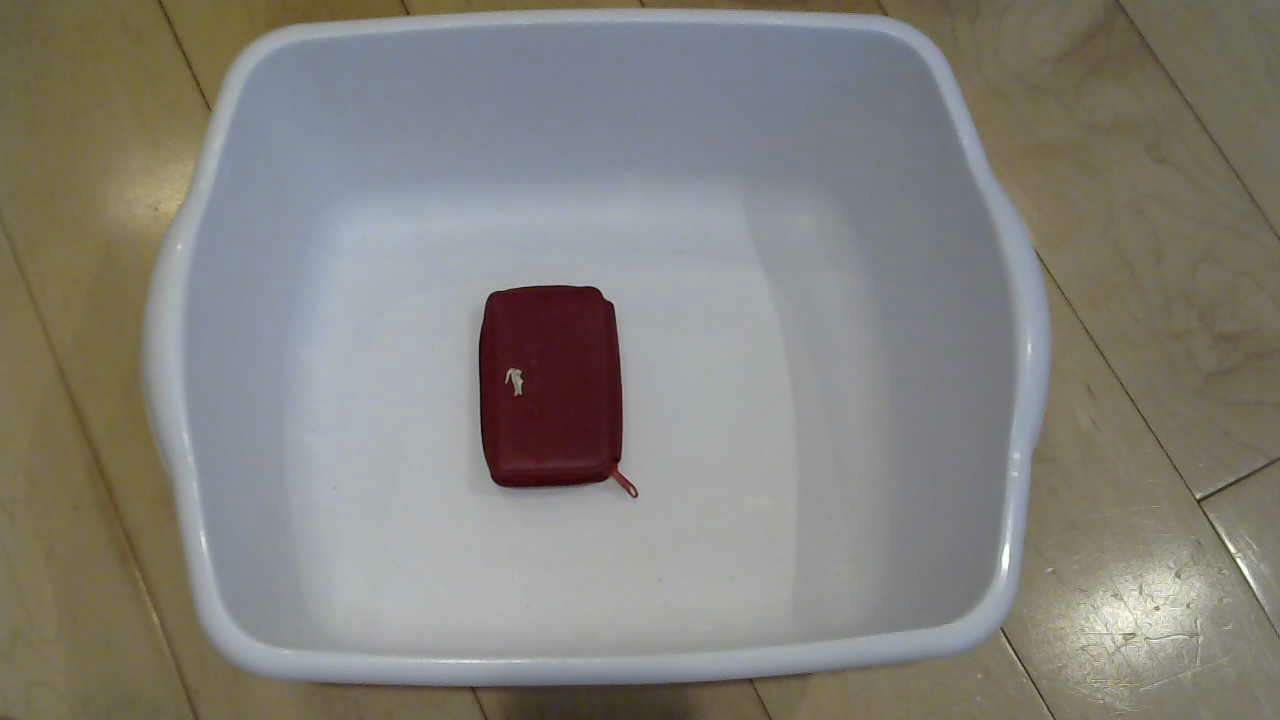wallet: (457, 288, 645, 501)
